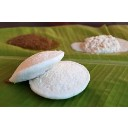idly: (30, 64, 90, 97), (11, 51, 62, 80)
